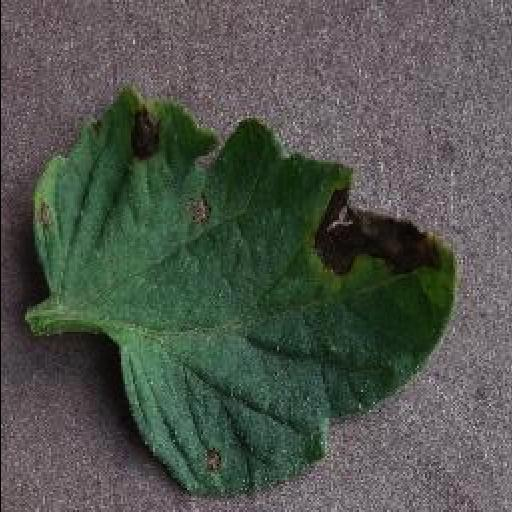disease_tomato: (26, 91, 460, 503)
